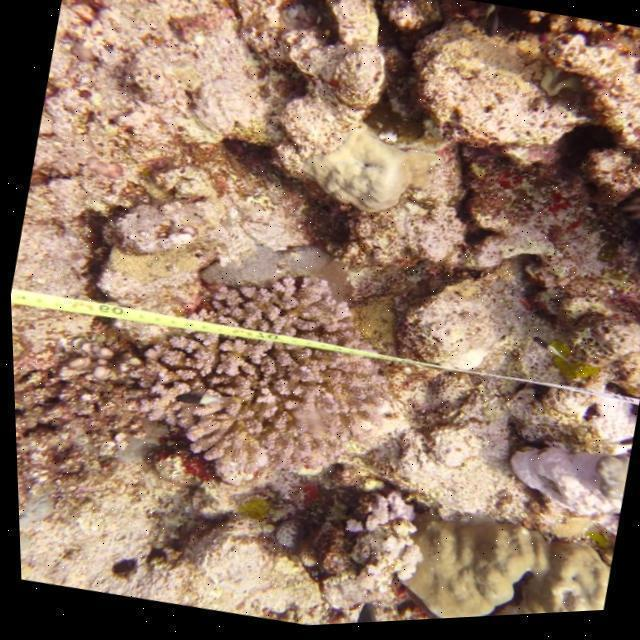Bleached Coral: (273, 102, 429, 245), (488, 427, 630, 535), (337, 491, 426, 621), (536, 367, 640, 464)
